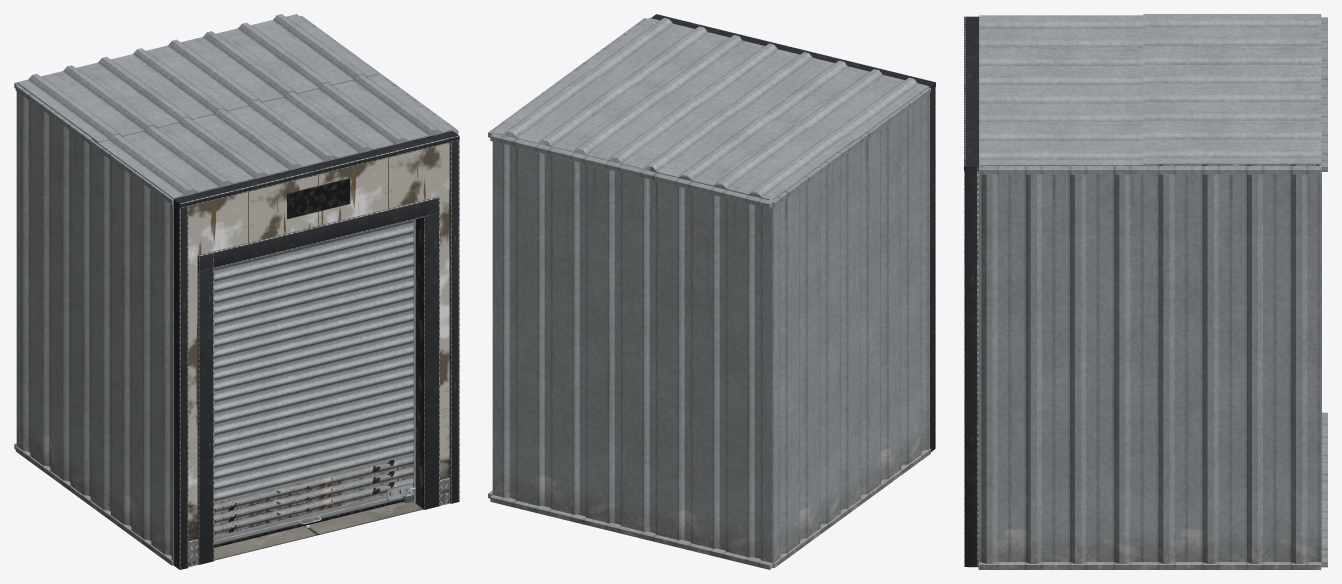
The model's file is StorageUnit_S.fbx.
3 views of the same model, side by side, from view 1: azimuth 30°, elevation 25°; view 2: azimuth 150°, elevation 25°; view 3: azimuth 270°, elevation 25° (orthographic). The views are drawn at different scales.
Visible parts, largest first — view 1: WallLeft, CurtainClosed, Top, Frame, Facade, Floor, BottomBar, NumberPlate, WallRight; view 2: WallBack, WallLeft, Top, Frame, WallRight; view 3: WallRight, Top, Frame, WallBack.
Boxes of the visible parts, x1=… form: WallLeft: x1=15, y1=85, x2=176, y2=565; CurtainClosed: x1=214, y1=220, x2=413, y2=536; Top: x1=17, y1=14, x2=452, y2=198; Frame: x1=173, y1=131, x2=459, y2=569; Facade: x1=188, y1=143, x2=449, y2=541; Floor: x1=173, y1=499, x2=423, y2=568; BottomBar: x1=214, y1=483, x2=413, y2=547; NumberPlate: x1=287, y1=178, x2=350, y2=218; WallRight: x1=297, y1=16, x2=458, y2=168; WallBack: x1=490, y1=133, x2=772, y2=569; WallLeft: x1=769, y1=87, x2=930, y2=567; Top: x1=493, y1=18, x2=928, y2=199; Frame: x1=650, y1=14, x2=935, y2=451; WallRight: x1=488, y1=18, x2=649, y2=498; WallRight: x1=978, y1=166, x2=1321, y2=569; Top: x1=979, y1=14, x2=1321, y2=166; Frame: x1=964, y1=16, x2=979, y2=566; WallBack: x1=1316, y1=17, x2=1327, y2=567.
Size of the model in its own units: 8.2 by 10.23 by 8.23.
Materials: 5 (5 with a texture image).
